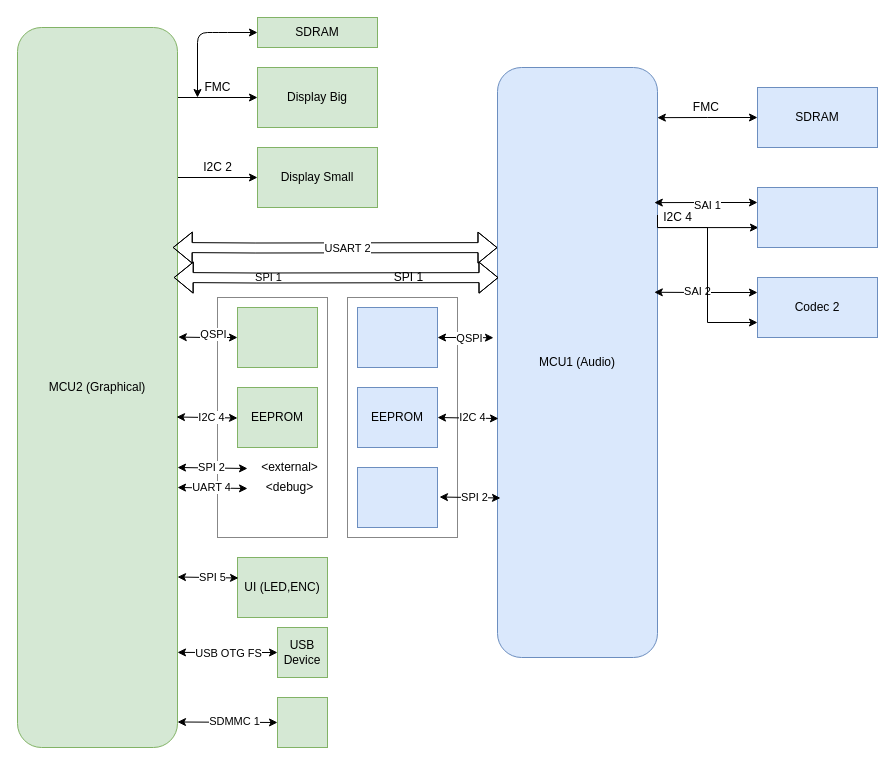
Some shapes in this 895 by 765 pixel diagram are drawn without their labels. The shapes that lost their labels are listed below. From the top down, each one's centre as x and y in pixels, then its label:
At pixel 817 217: "Codec 1".
At pixel 277 337: "FLASH".
At pixel 397 337: "FLASH / PSRAM".
At pixel 397 497: "PSRAM / FLASH".
At pixel 302 722: "SD Card".
